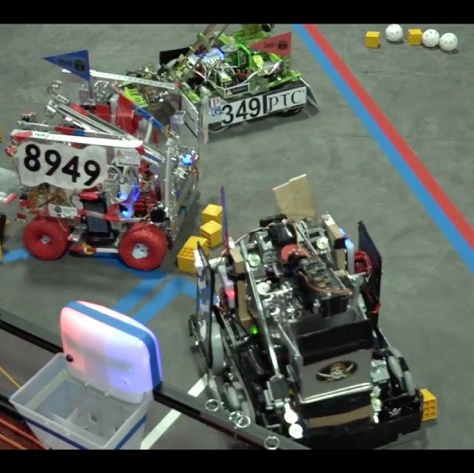robot: (190, 169, 432, 456), (4, 80, 202, 270), (141, 23, 322, 140)
